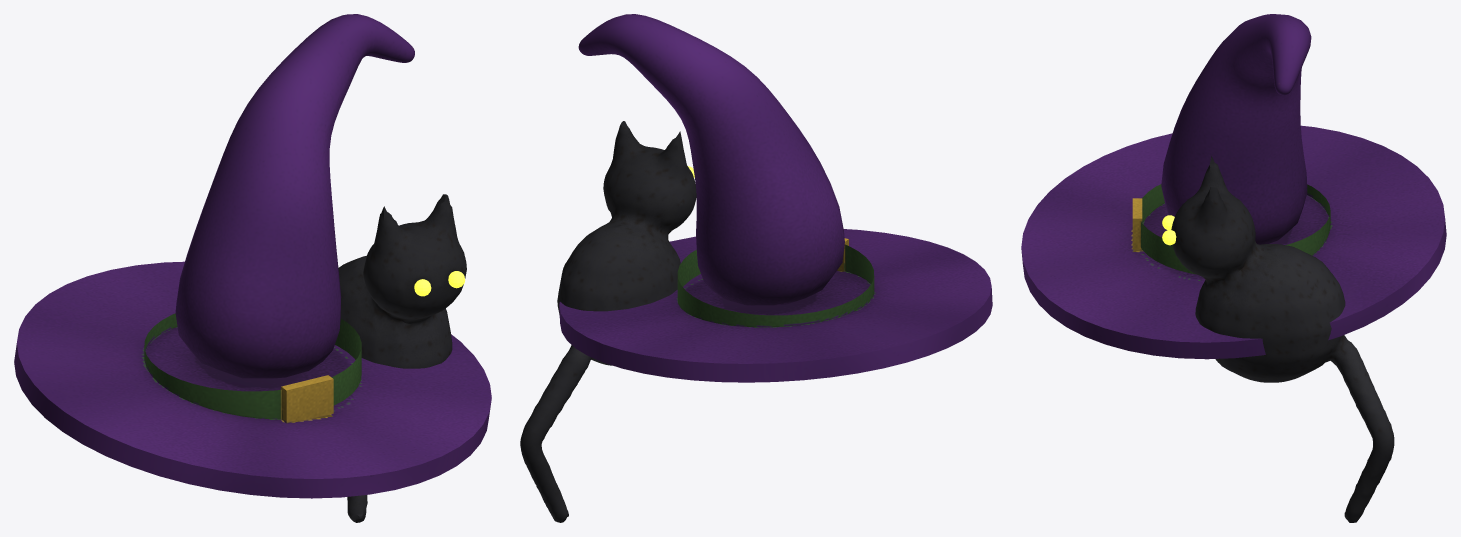
File: npc_bruxa.glb
The picture shows the model from 3 angles, left to right: view 1: azimuth 30°, elevation 25°; view 2: azimuth 150°, elevation 25°; view 3: azimuth 270°, elevation 25°; orthographic projection. The views are drawn at different scales.
Parts seen in each view (by area): view 1: bruxa_Head_peca, bruxa_Spine2_peca; view 2: bruxa_Head_peca, bruxa_Spine2_peca; view 3: bruxa_Head_peca, bruxa_Spine2_peca.
Boxes of the visible parts, x1,y1,x2,y2 form: bruxa_Head_peca: [14, 14, 491, 498]; bruxa_Spine2_peca: [338, 194, 466, 522]; bruxa_Head_peca: [559, 14, 992, 382]; bruxa_Spine2_peca: [520, 121, 696, 522]; bruxa_Head_peca: [1021, 14, 1446, 359]; bruxa_Spine2_peca: [1162, 156, 1394, 522].
Size of the model in its own units: 0.4398 by 0.5502 by 0.4402.
3 materials, 2 textured.
